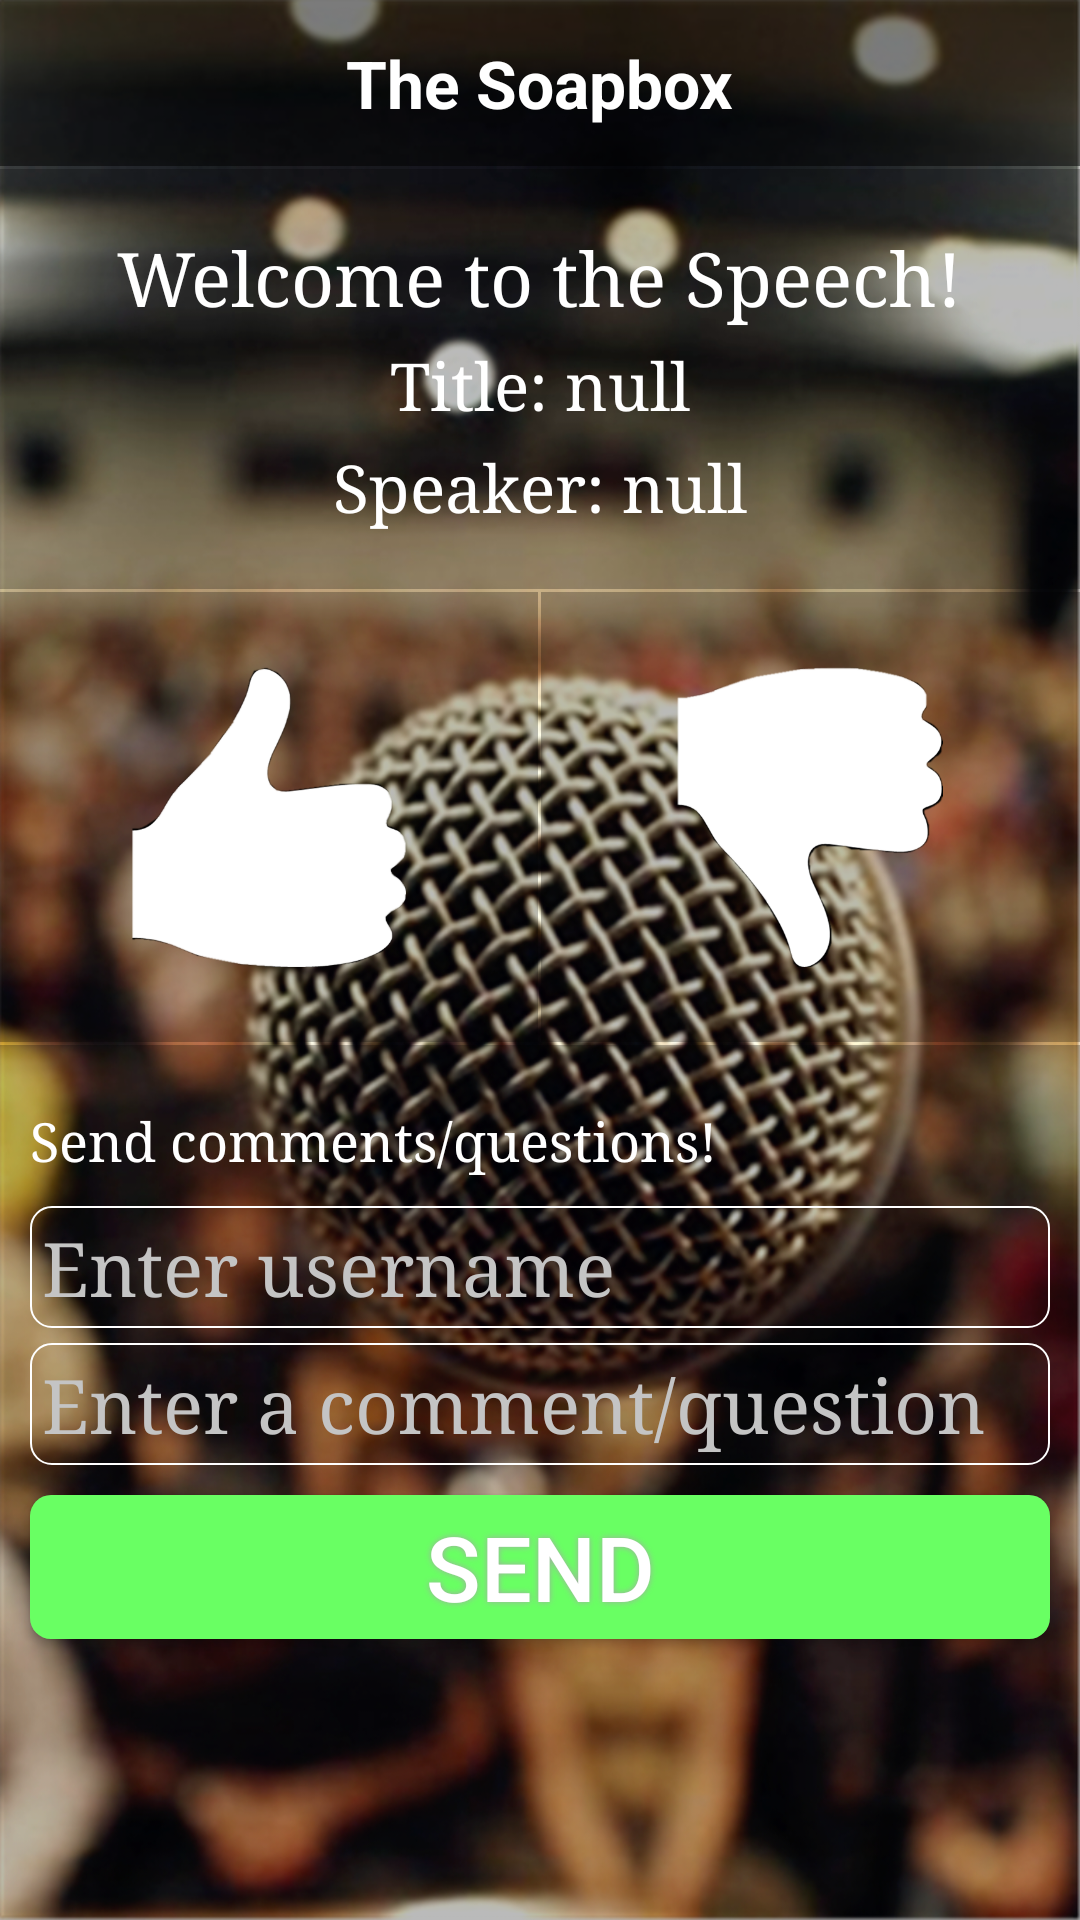

Screen size 1080w x 1920h. Icon name, then its center in pixels as (x,y):
dislike: (810,817)
like: (269,817)
